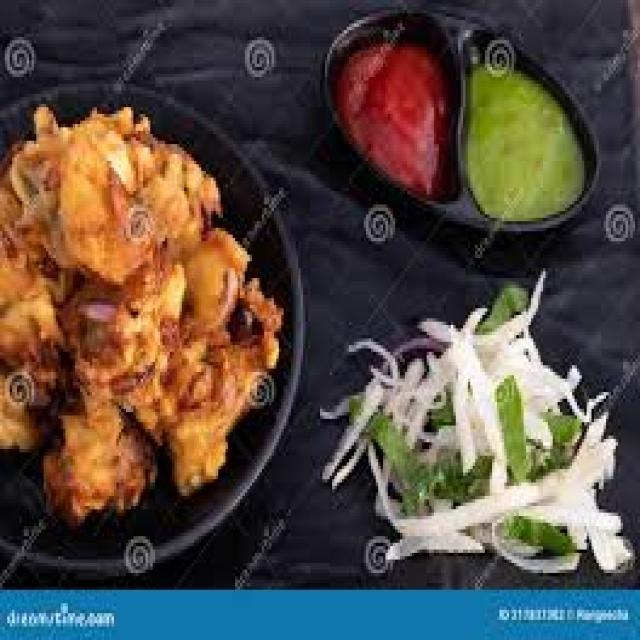BAJI: (75, 231, 251, 408), (58, 125, 200, 277), (148, 344, 263, 491), (0, 194, 65, 446), (42, 389, 154, 521)
